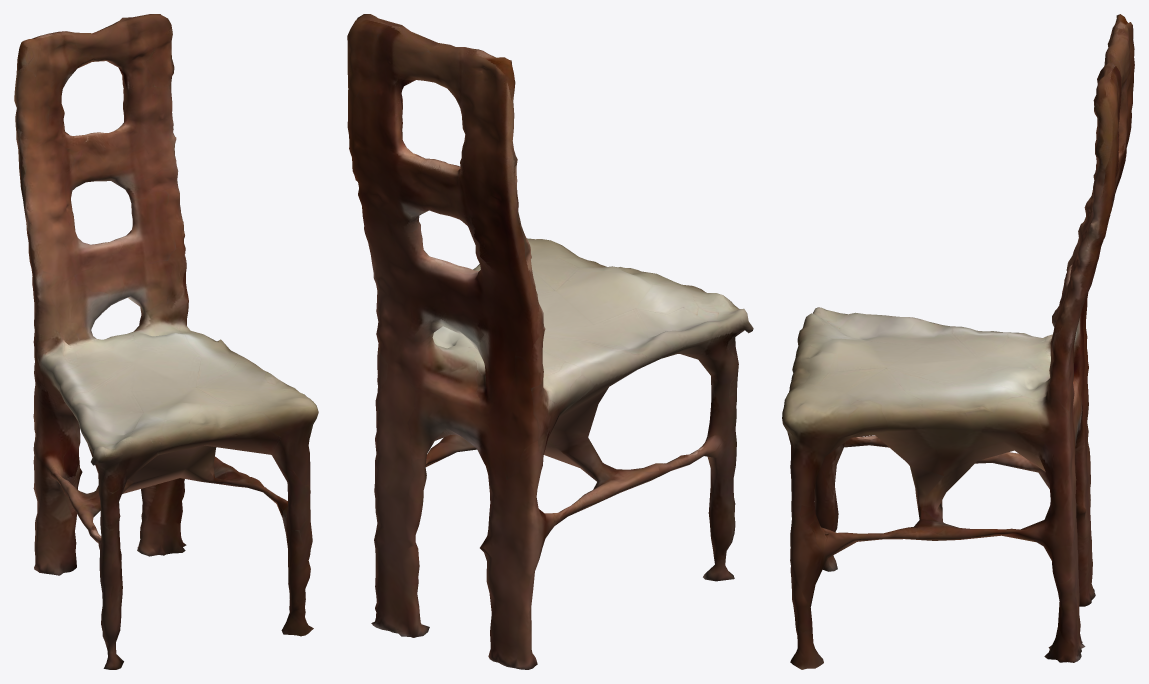
Rendered from Chair.fbx.
3 views of the same model, side by side, from view 1: azimuth 30°, elevation 25°; view 2: azimuth 150°, elevation 25°; view 3: azimuth 270°, elevation 25° (orthographic). The views are drawn at different scales.
Visible parts, largest first — view 1: poly.001; view 2: poly.001; view 3: poly.001.
Part boxes in pixels (x1,y1,x2,y2): poly.001: (14,14,318,669); poly.001: (347,14,753,669); poly.001: (782,14,1134,669).
Bounding box in the file's own units: 119 × 274 × 151.
1 material, 1 textured.
